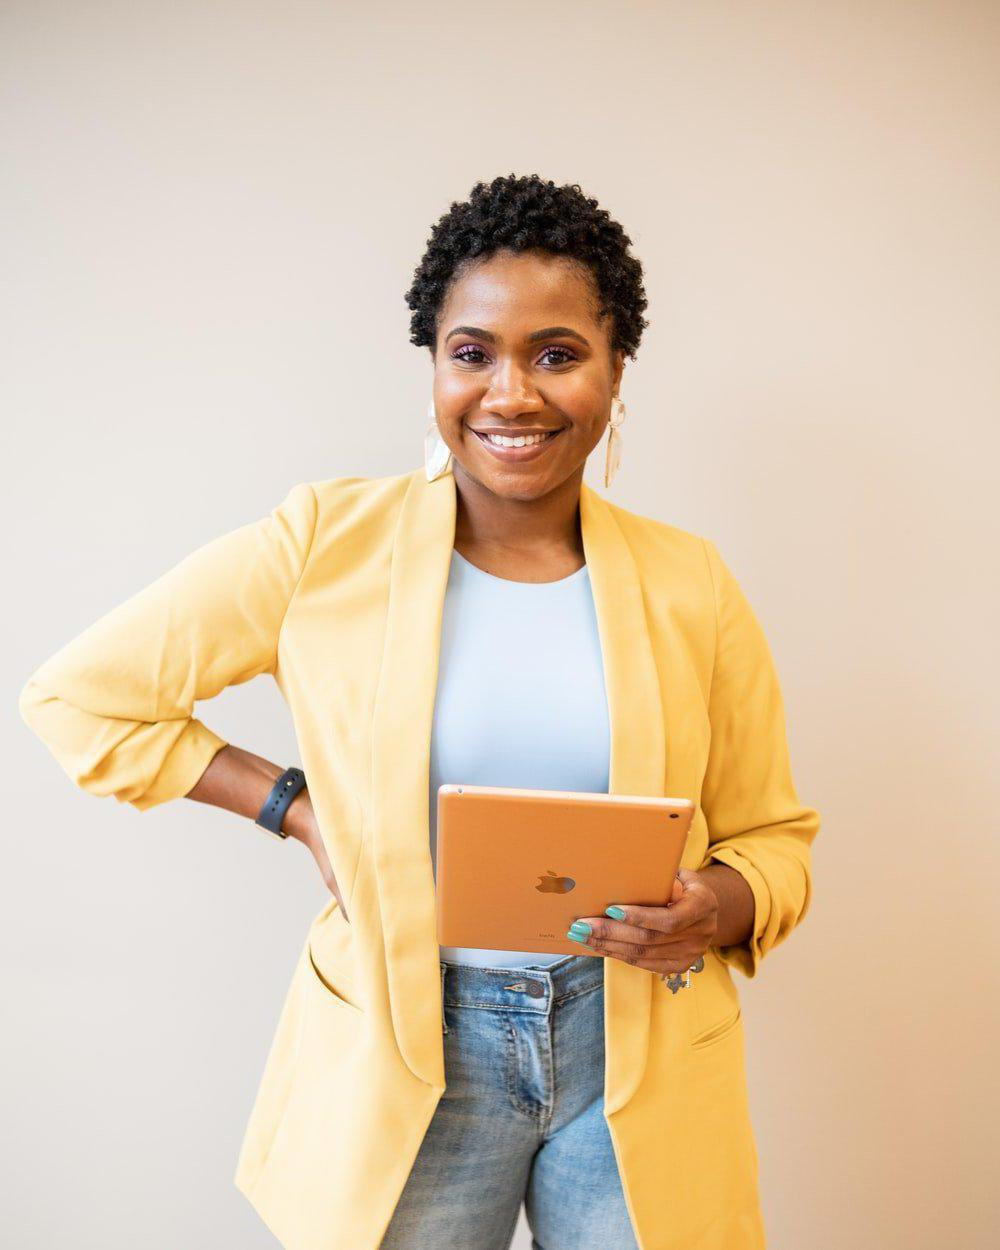Sober: (431, 268, 601, 489)
